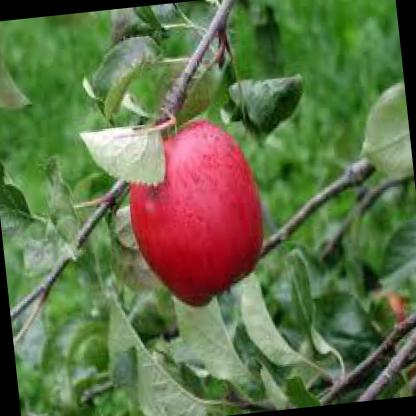apple: (121, 111, 275, 315)
